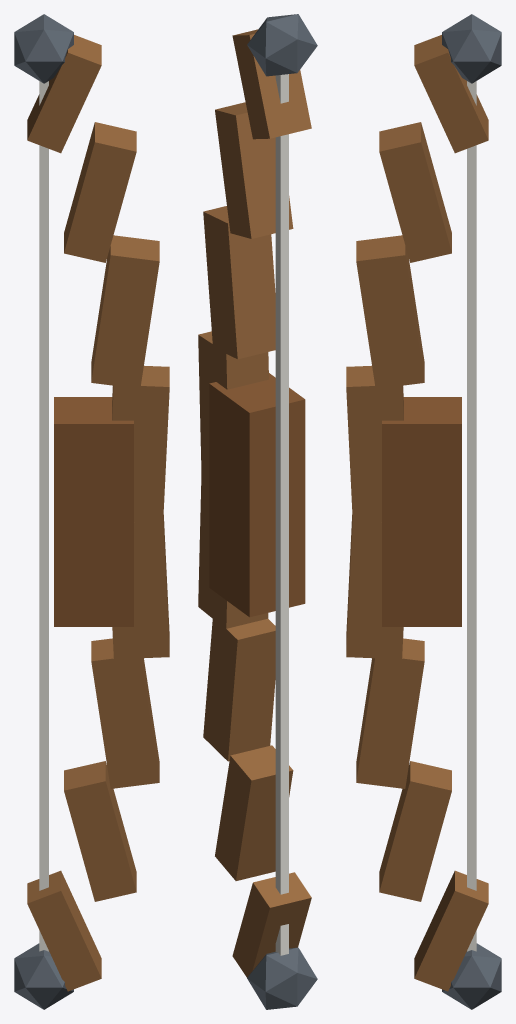
File: weapon_bow_t1.glb
The picture shows the model from 3 angles, left to right: view 1: azimuth 90°, elevation 25°; view 2: azimuth 210°, elevation 25°; view 3: azimuth 270°, elevation 25°; orthographic projection.
Parts seen in each view (by area): view 1: item_wood1, item_leather1, bowString_string, item_darkMetal1; view 2: item_wood1, item_leather1, bowString_string, item_darkMetal1; view 3: item_wood1, item_leather1, bowString_string, item_darkMetal1.
Part boxes in pixels (bbox=[...]): item_wood1: bbox=[27, 35, 169, 991]; item_leather1: bbox=[54, 397, 133, 626]; bowString_string: bbox=[39, 81, 48, 951]; item_darkMetal1: bbox=[14, 14, 73, 1009]; item_wood1: bbox=[198, 29, 311, 977]; item_leather1: bbox=[209, 373, 305, 617]; bowString_string: bbox=[275, 74, 288, 955]; item_darkMetal1: bbox=[247, 14, 317, 1009]; item_wood1: bbox=[346, 35, 488, 991]; item_leather1: bbox=[382, 397, 461, 626]; bowString_string: bbox=[467, 81, 476, 951]; item_darkMetal1: bbox=[442, 14, 501, 1009].
Bounding box in the file's own units: 0.04 × 0.6769 × 0.0973.
